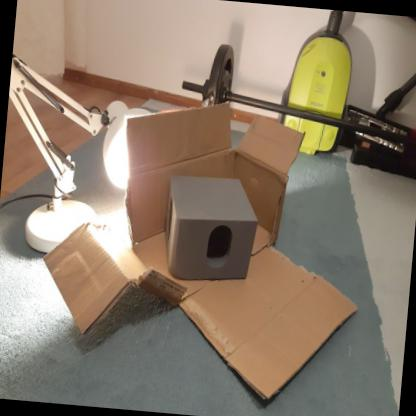CornerCasting: (158, 168, 262, 284)
